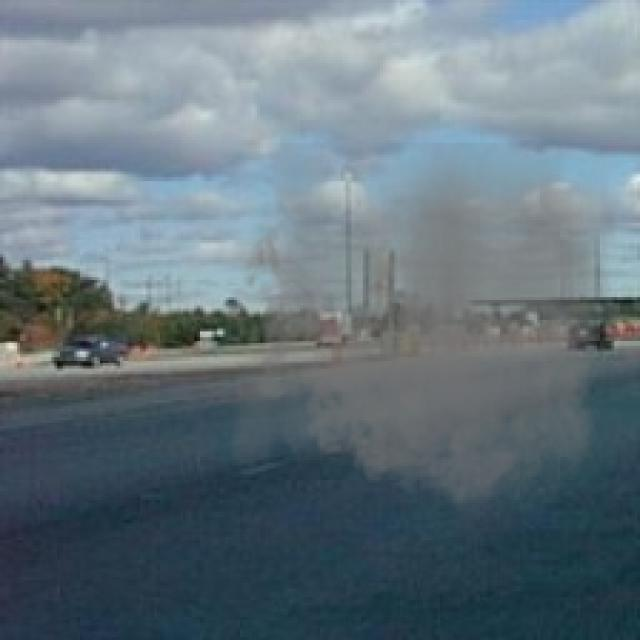Smoke: (232, 142, 617, 528)
